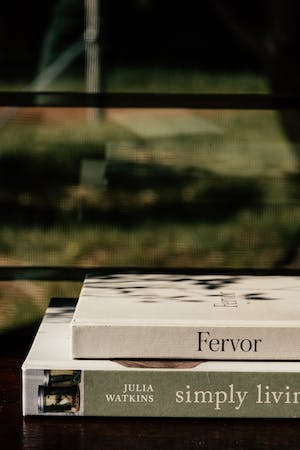book: (22, 298, 300, 422), (68, 262, 300, 363)
